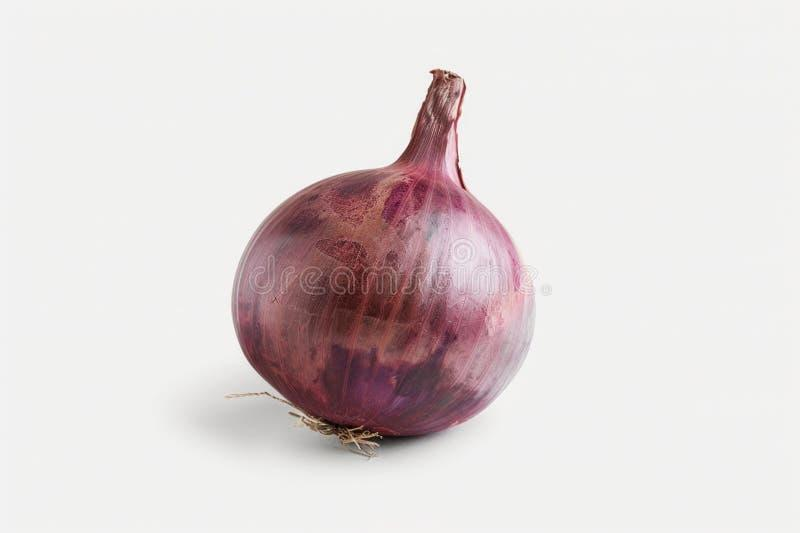Onion: (232, 75, 535, 435)
